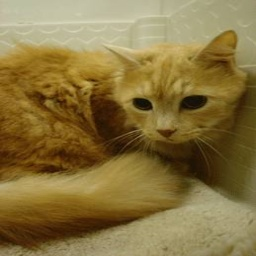cat: (0, 30, 238, 240)
